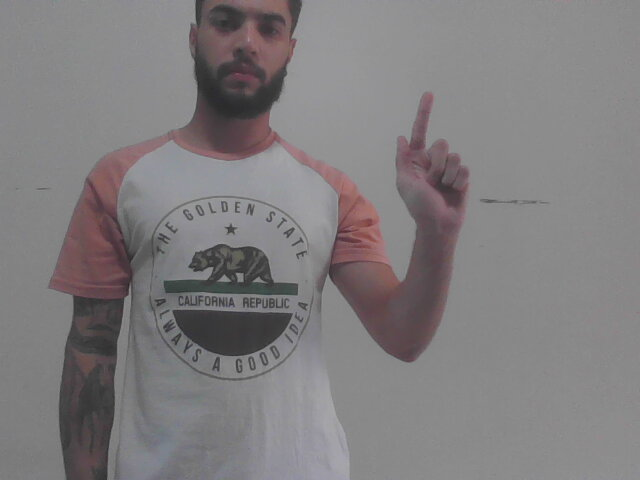g: (390, 85, 472, 236)
